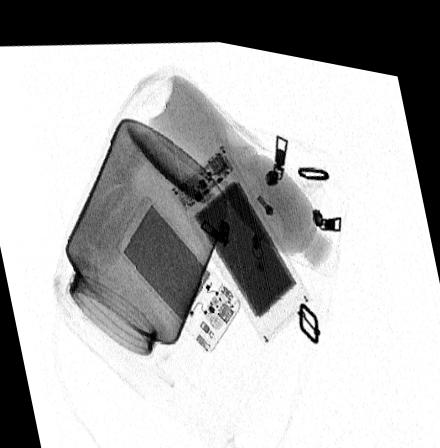Powerbank: (168, 134, 311, 335), (115, 189, 240, 346)
